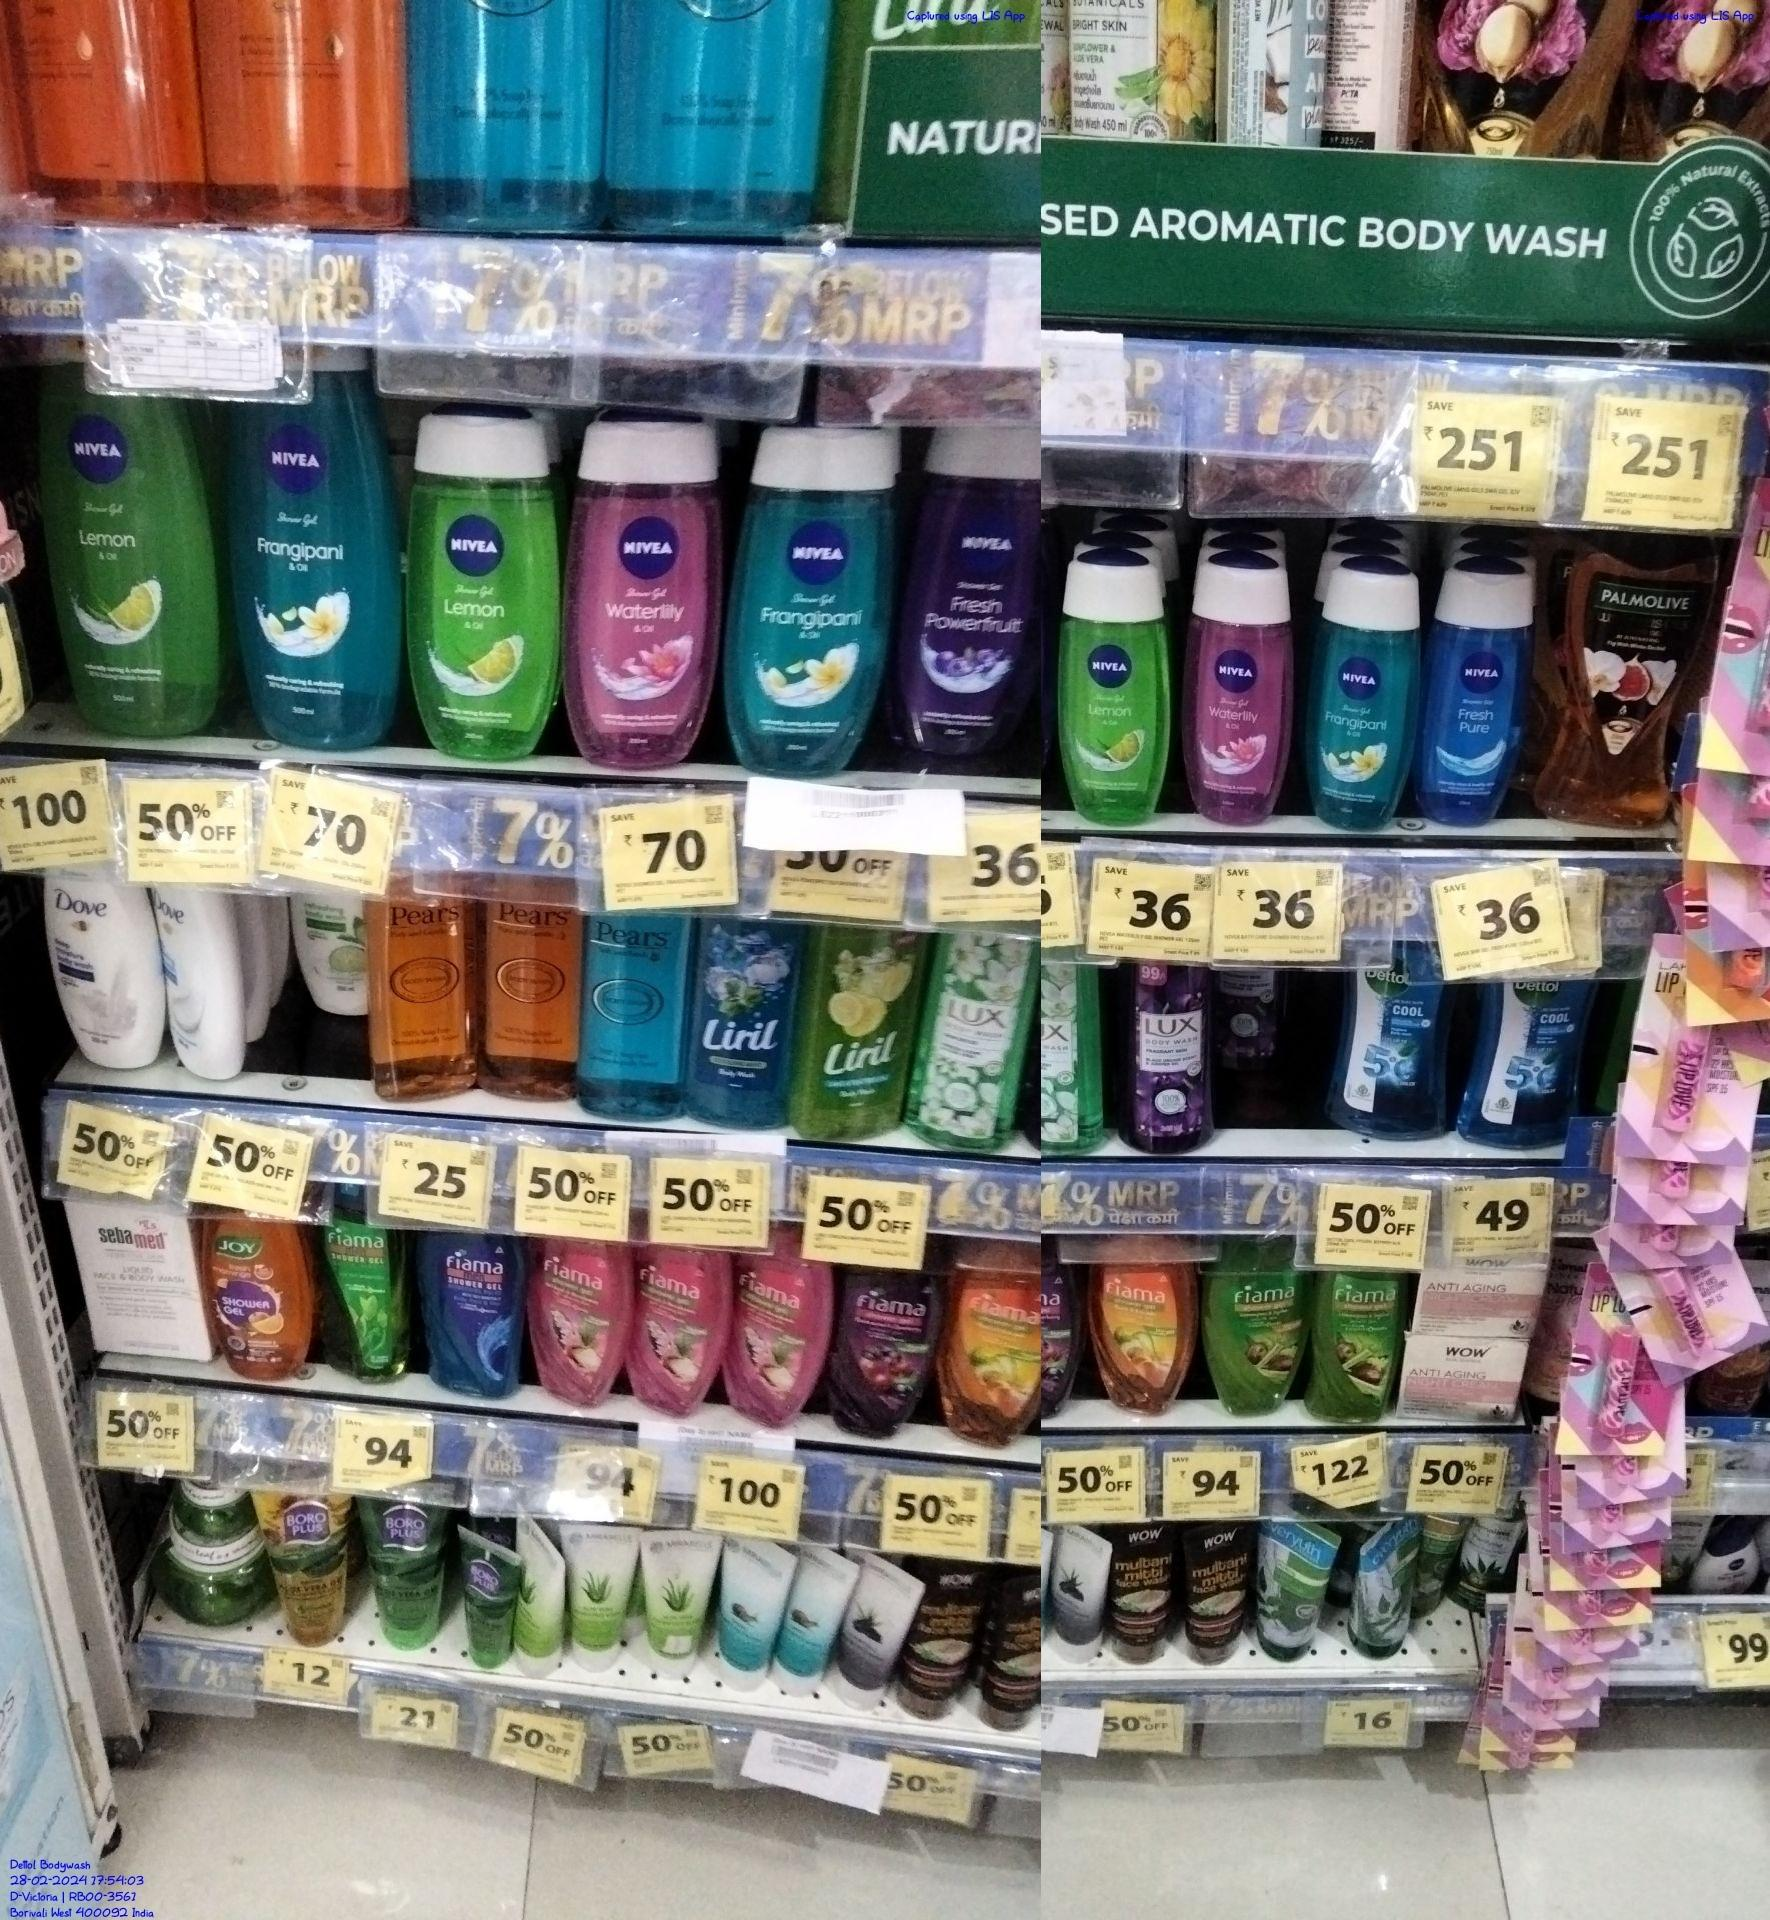Dettol_Bodywash_Cool: (1348, 935, 1450, 1147), (1484, 965, 1588, 1152)
Fiama_Shower_Gel_Lemongrass_and_Jojoba_250ML: (1210, 1234, 1302, 1417), (1320, 1266, 1399, 1425)
Fiama_Shower_Gel_Patchouli_and_Macadamia_250ML: (728, 1219, 816, 1437), (637, 1229, 721, 1423), (527, 1236, 617, 1408)
Fiama_Shower_Gel_Peach_and_Avocado_250ML: (950, 1234, 1052, 1453), (1086, 1231, 1189, 1418)
Joy_Shower_Gel_Mandarin_and_Lemongrass_250ML: (196, 1216, 313, 1391)
Liril_Cooling_Mint_Body_Wash_250ML: (694, 911, 796, 1132)
Liril_Lime_and_Tea_Tree_Oil_Body_Wash_250ML: (815, 923, 910, 1149)
Lux_Black_Orchid_Scent_and_Juniper_Oil_Body_Wash_245ML: (1126, 955, 1216, 1154)
Lux_Body_Wash_Skin_Detox_Freesia_Scent_and_Alove_Vera_245ML: (927, 927, 1015, 1157)
Nivea_Shower_Gel_Frangipani_and_Oil_250ML: (736, 425, 890, 776), (233, 373, 370, 753), (1315, 550, 1422, 835)
Nivea_Shower_Gel_Fresh_Powerfruit_250ML: (913, 430, 1044, 766)
Nivea_Shower_Gel_Lemon_and_Oil_250ML: (407, 420, 550, 759), (50, 373, 184, 738), (1054, 555, 1171, 825)
Nivea_Shower_Gel_Waterlily_and_Oil_250ML: (572, 425, 713, 769), (1186, 554, 1283, 821)
Palmolive_Luminous_Oils_With_White_Orchid_Shower_Gel_250ML: (1551, 530, 1685, 833)
Pears_Pure_Glycerin_and_Mint_Extracts_Body_Wash_250ML: (586, 908, 688, 1124)
